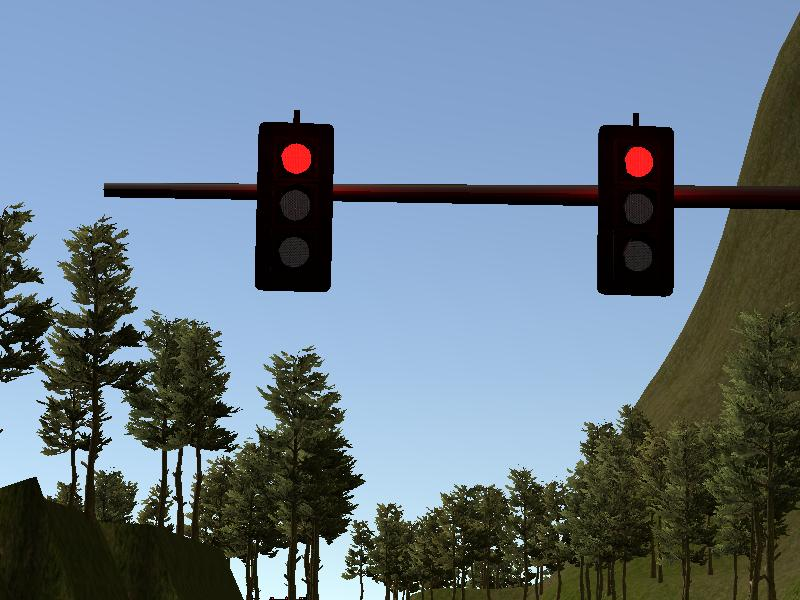Red: (602, 125, 671, 295), (260, 124, 328, 292)
